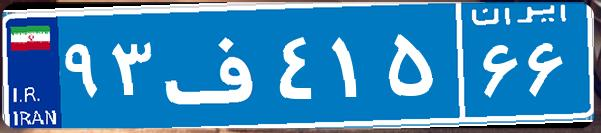1: (330, 28, 385, 110)
3: (110, 28, 158, 105)
4: (273, 28, 330, 110)
5: (385, 28, 445, 110)
6: (475, 38, 525, 113), (525, 38, 570, 115)
9: (57, 26, 110, 107)
ف: (158, 15, 273, 115)
